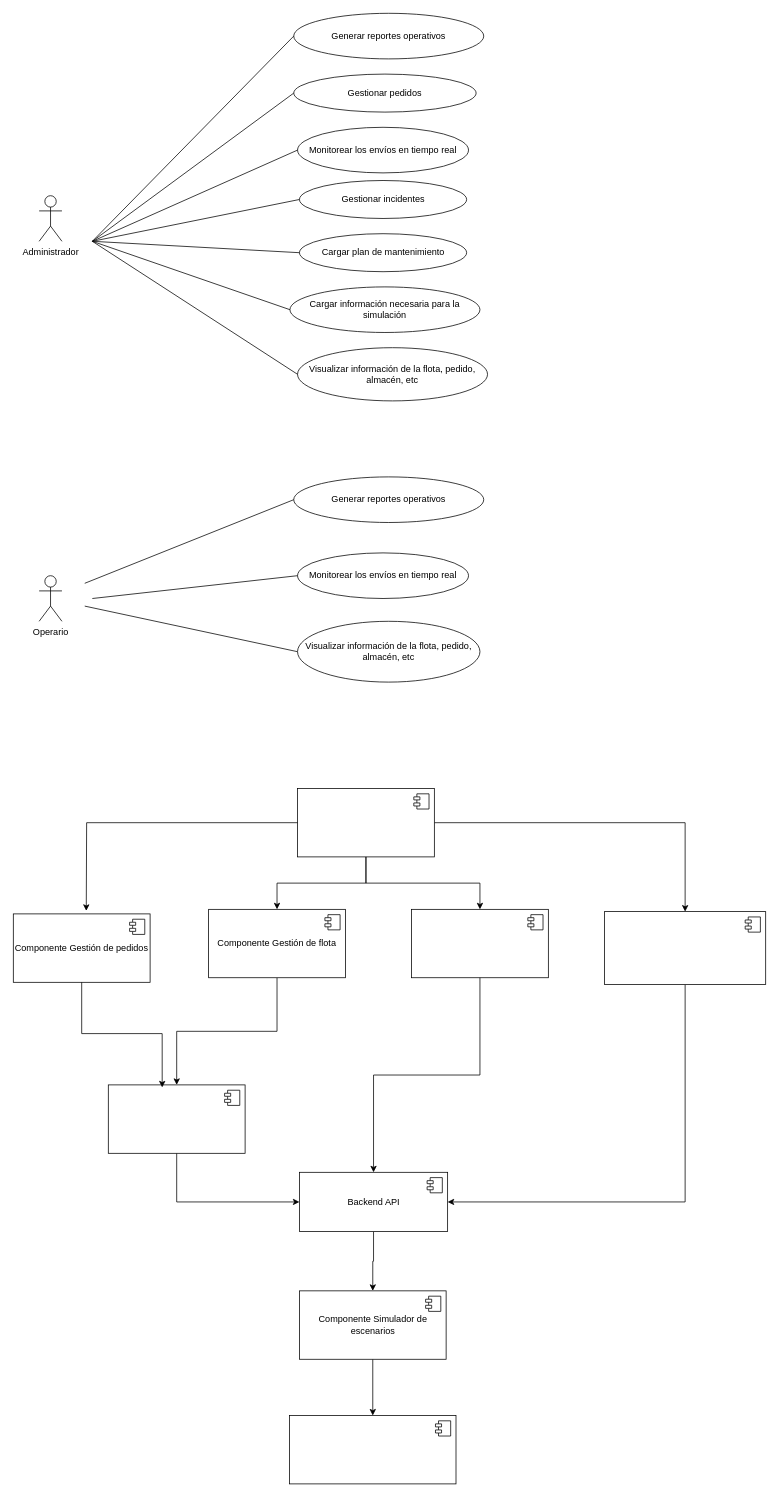
The diagram is 779 pixels wide and 1497 high, and some of its shapes have lost their labels. Each missing label, with the box of its shape:
Componente Base de Datos: (297, 788, 434, 857)
Componente Gestión de Almacén: (411, 909, 548, 978)
Componente Gestión de Clientes: (604, 911, 766, 985)
Componente Planificador de rutas: (108, 1084, 245, 1153)
Componente Visualizador Mapa: (289, 1415, 456, 1484)
